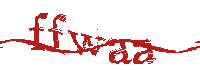a: (131, 40, 154, 66), (107, 39, 130, 64)
f: (29, 11, 48, 51), (49, 12, 67, 54)
w: (69, 30, 106, 56)
